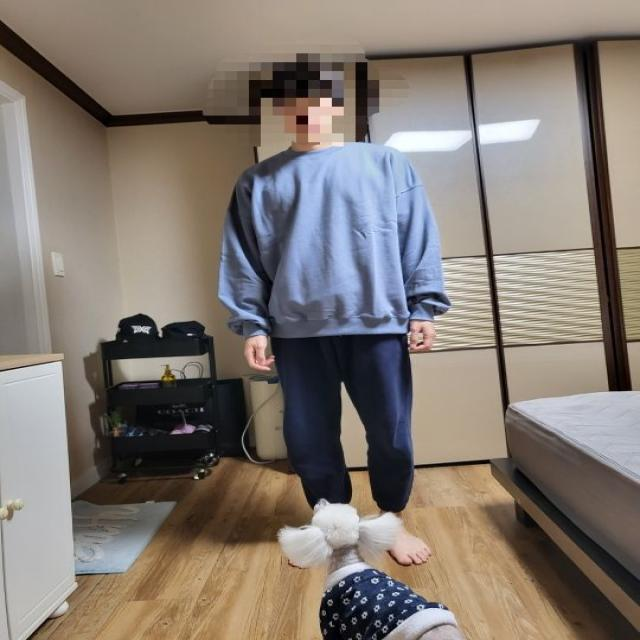denimpants: (274, 333, 418, 512)
mtm: (222, 146, 458, 341)
